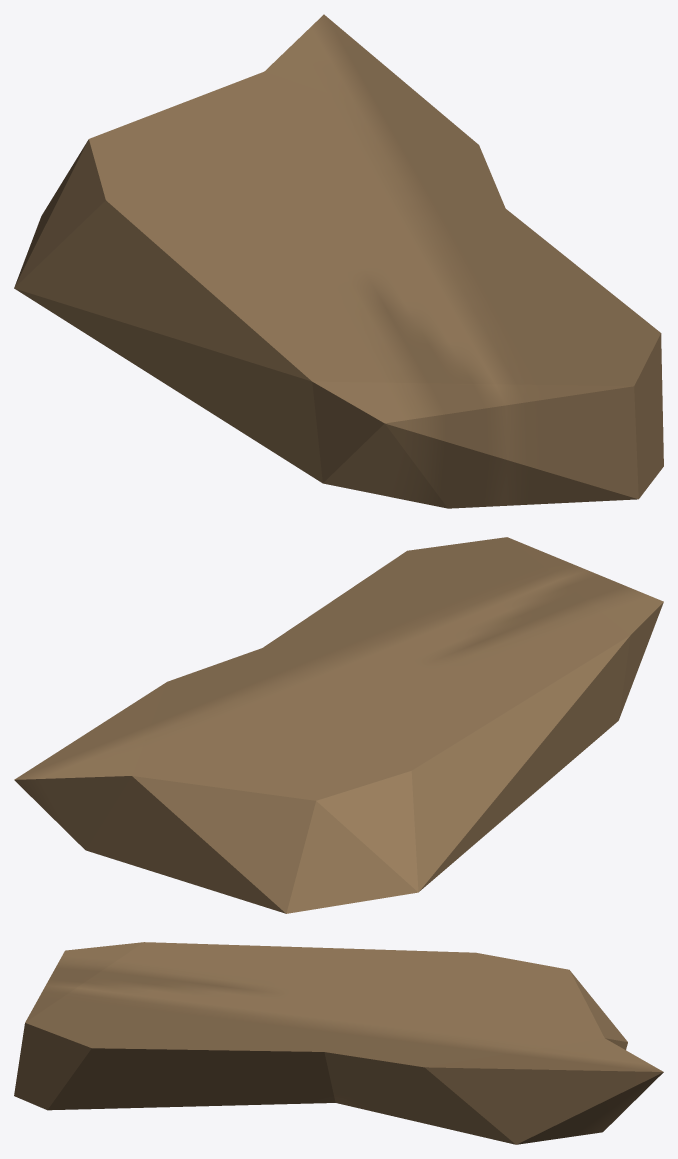
Rendered from SM_FX_Wood_Shard_03.fbx.
3 views of the same model, one above another, from view 1: azimuth 30°, elevation 25°; view 2: azimuth 150°, elevation 25°; view 3: azimuth 270°, elevation 25° (orthographic). The views are drawn at different scales.
Parts seen in each view (by area): view 1: SM_FX_Wood_Shard_03; view 2: SM_FX_Wood_Shard_03; view 3: SM_FX_Wood_Shard_03.
Part boxes in pixels (bbox=[...]): SM_FX_Wood_Shard_03: bbox=[14, 14, 663, 508]; SM_FX_Wood_Shard_03: bbox=[14, 537, 663, 913]; SM_FX_Wood_Shard_03: bbox=[14, 942, 663, 1144].
Size of the model in its own units: 26.26 by 6.71 by 52.54.
